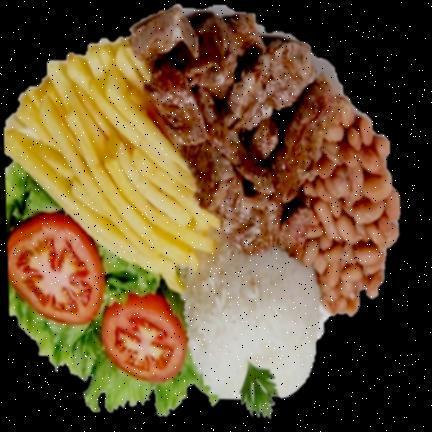beans: (302, 106, 399, 316)
meat: (132, 14, 337, 254)
potato: (4, 44, 220, 292)
rice: (184, 235, 321, 416)
salad: (5, 164, 216, 416)
tomato: (7, 214, 105, 325), (102, 294, 186, 384)
